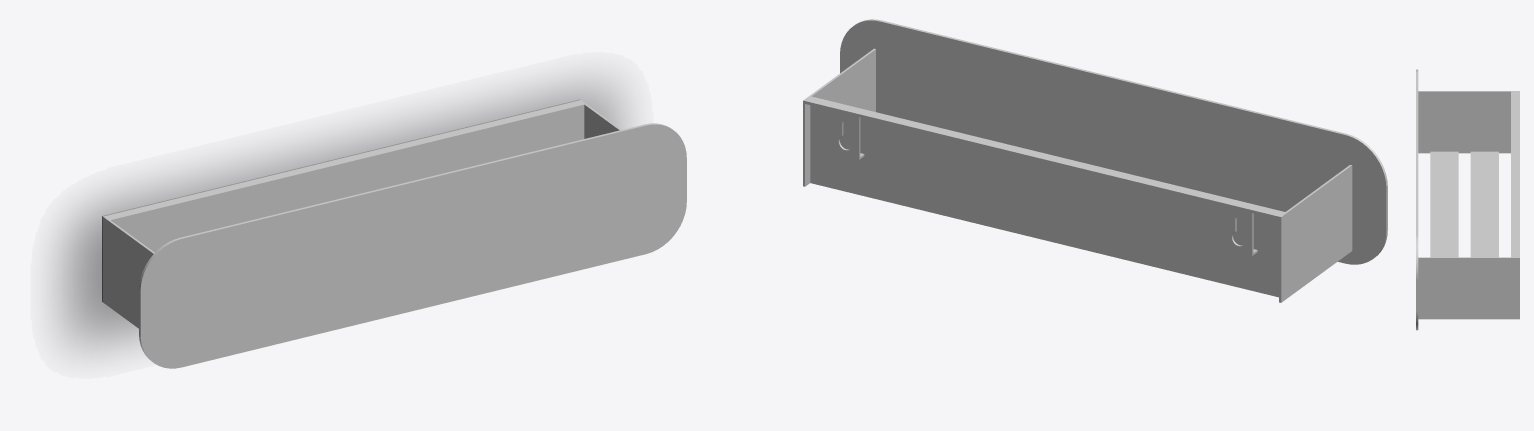
The model's file is radius-mono.a253c11b7f.ar.glb.
3 renders of one model, left to right at view 1: azimuth 30°, elevation 25°; view 2: azimuth 150°, elevation 25°; view 3: azimuth 270°, elevation 25°, orthographic. The views are drawn at different scales.
Parts seen in each view (by area): view 1: NAUO1, object 2; view 2: NAUO1; view 3: NAUO1.
Boxes of the visible parts, x1=… form: NAUO1: x1=102, y1=99, x2=686, y2=368; object 2: x1=57, y1=82, x2=626, y2=348; NAUO1: x1=803, y1=19, x2=1387, y2=302; NAUO1: x1=1416, y1=69, x2=1519, y2=330.
Bounding box in the file's own units: 0.48 × 0.17 × 0.092.
2 materials, 1 textured.
